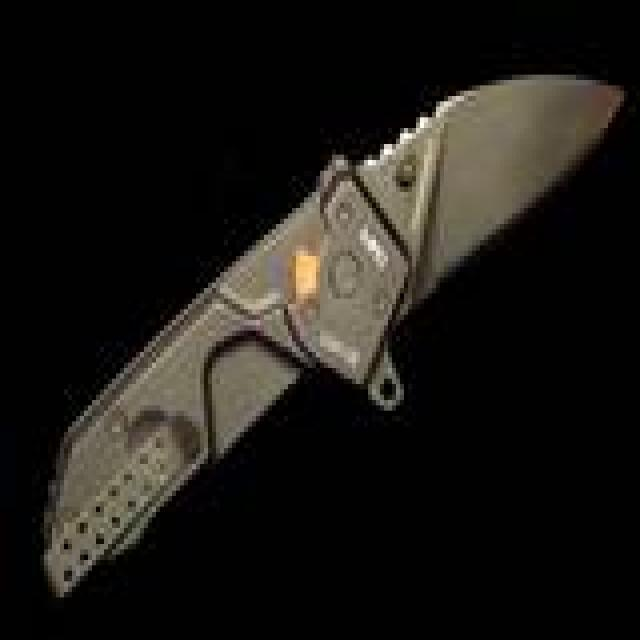Knife: (31, 75, 625, 614)
